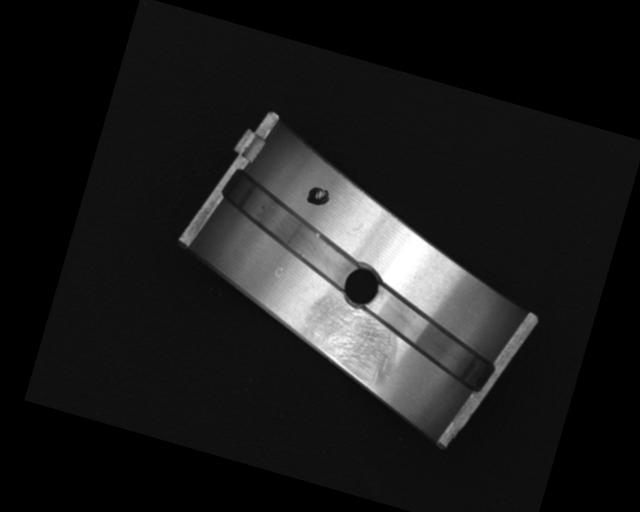blot: (304, 181, 333, 209)
bruise: (273, 263, 285, 279)
gap: (209, 172, 373, 292), (352, 285, 506, 393)
hole: (338, 259, 386, 312)
scratch: (295, 291, 409, 390)
